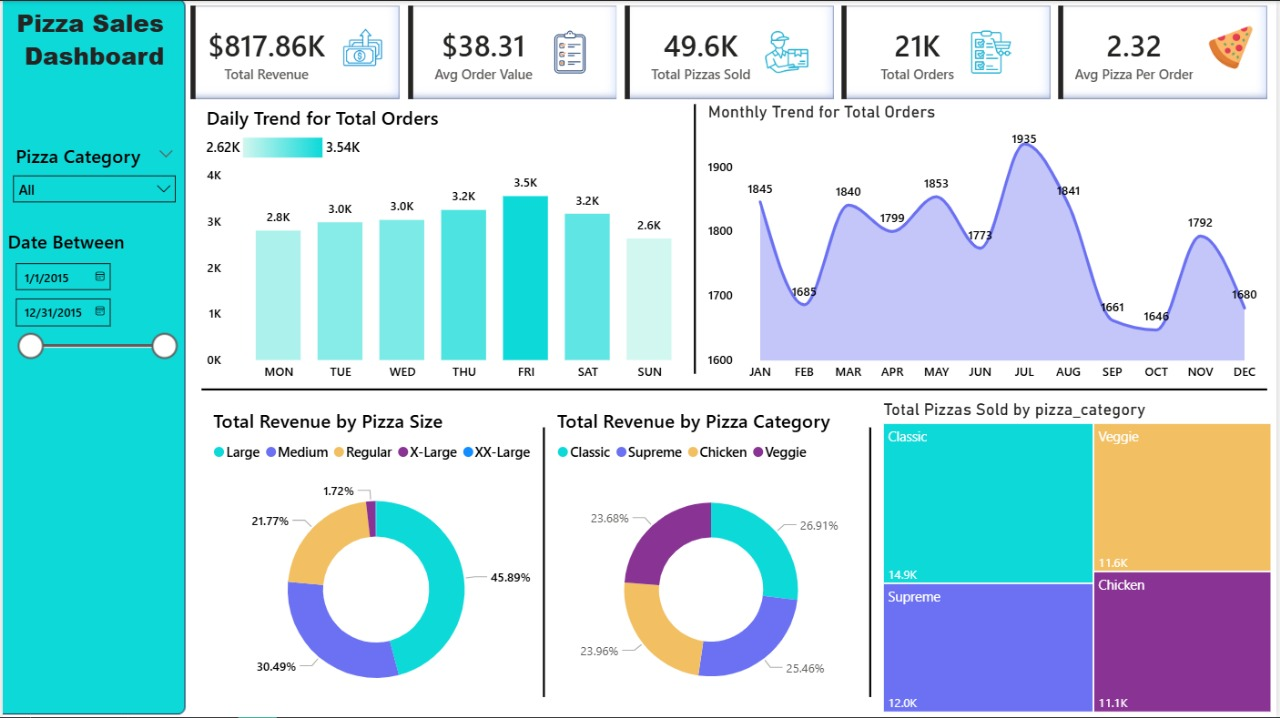

This screenshot's page, from the dashboard's own definition file:
{"tool":"powerbi","page":{"name":"Dashboard","canvas":[1280,720],"ordinal":0},"visuals":[{"type":"cardVisual","fields":{"Data":["Measures Table.Total_Revenue","Measures Table.avg_order_value","Measures Table.total_pizza_sold","Measures Table.total_orders","Measures Table.avg_pizza_per_order"]},"box":[184,0,1096,104],"z":4},{"type":"columnChart","title":"Daily Trend for Total Orders","fields":{"Y":["Measures Table.Total Orders"],"Category":["public pizza.Order Day"]},"box":[200,104,504,287],"z":5},{"type":"areaChart","title":"Monthly Trend for Total Orders","fields":{"Category":["public pizza.Month Abv"],"Y":["Measures Table.Total Orders"]},"box":[704,101,567,290],"z":6},{"type":"donutChart","title":"Total Revenue by Pizza Category","fields":{"Category":["public pizza.pizza_category"],"Y":["Measures Table.Total Revenue"]},"box":[552,408,320,312],"z":7},{"type":"donutChart","title":"Total Revenue by Pizza Size","fields":{"Y":["Measures Table.Total Revenue"],"Category":["public pizza.pizza_size"]},"box":[207,408,338,312],"z":8},{"type":"treemap","fields":{"Group":["public pizza.pizza_category"],"Values":["Measures Table.Total Pizzas Sold"]},"box":[880,400,400,320],"z":9},{"type":"slicer","fields":{"Values":["public pizza.pizza_category"]},"box":[0,138,184,80],"z":10},{"type":"slicer","title":"Date Between","fields":{"Values":["public pizza.order_date"]},"box":[0,228,184,147],"z":11},{"type":"textbox","box":[0,0,184,101],"z":12}]}

Visuals, with their boxes in screenshot pixels (x1, y1, x2, y2), scaled from the page's 1280x720 canvas onto the 1280x718 screenshot:
cardVisual - Measures Table.Total_Revenue x Measures Table.avg_order_value: crop(184, 0, 1279, 104)
"Daily Trend for Total Orders" columnChart: crop(200, 104, 704, 390)
"Monthly Trend for Total Orders" areaChart: crop(704, 101, 1271, 390)
"Total Revenue by Pizza Category" donutChart: crop(552, 407, 872, 717)
"Total Revenue by Pizza Size" donutChart: crop(207, 407, 545, 717)
treemap - public pizza.pizza_category x Measures Table.Total Pizzas Sold: crop(880, 399, 1279, 717)
slicer - public pizza.pizza_category: crop(0, 138, 184, 217)
"Date Between" slicer: crop(0, 227, 184, 374)
textbox: crop(0, 0, 184, 101)
